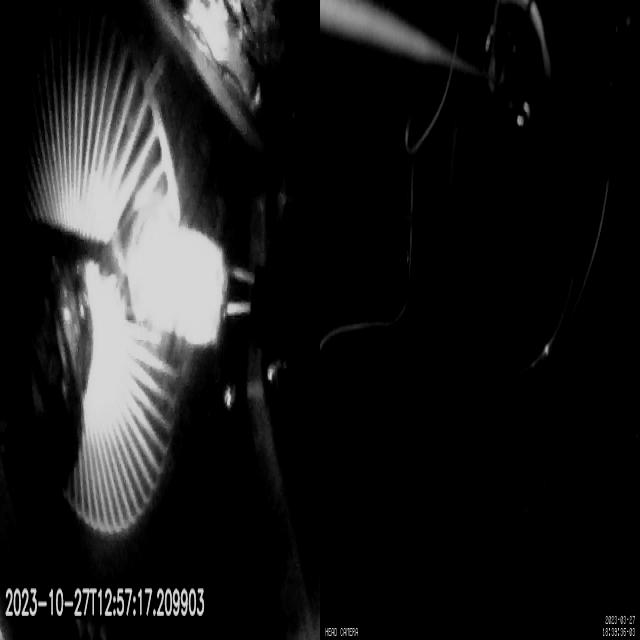head: (130, 217, 230, 349)
